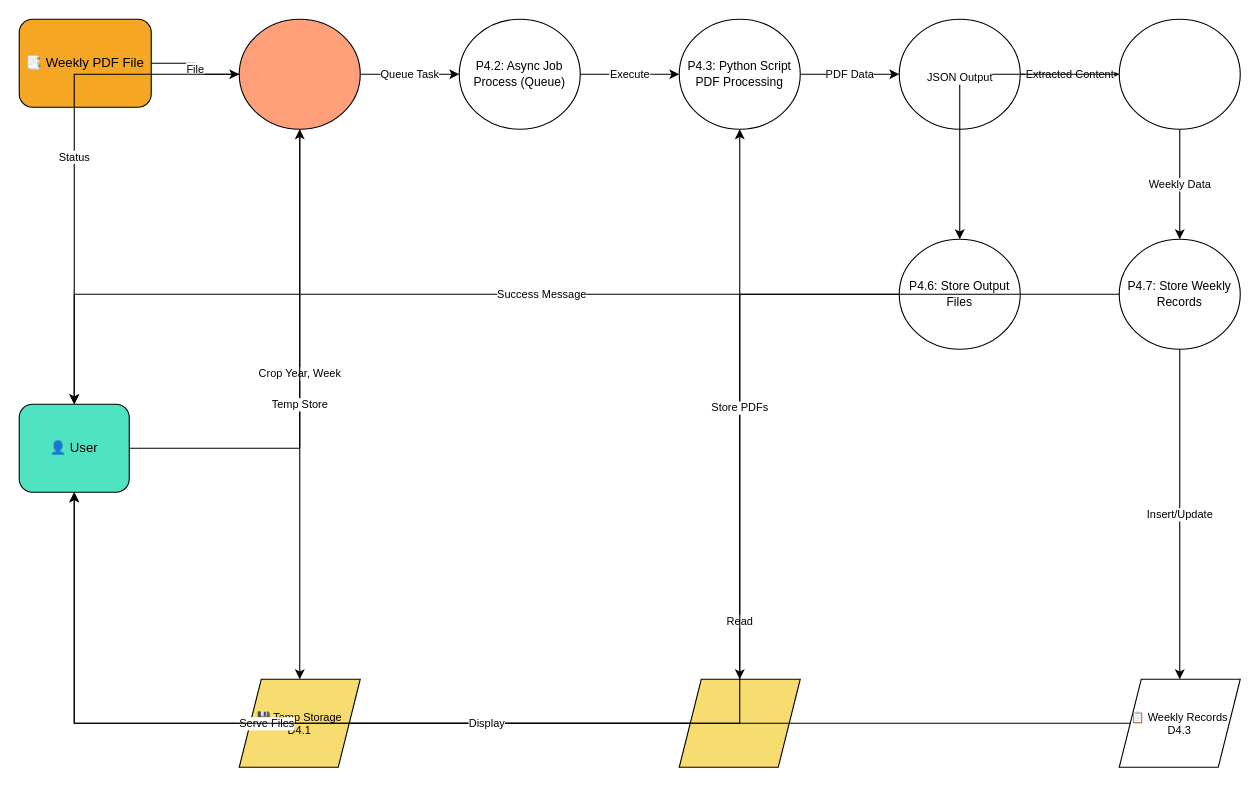
Some shapes in this 1260 by 787 pixel diagram are drawn without their labels. The shapes that lost their labels are listed below. From the top down, each one's centre as x and y in pixels, then its label:
At [299,73]: "P4.1: Upload PDF & Queue Job".
At [959,73]: "P4.4: Split & Extract Data from PDF".
At [1179,73]: "P4.5: Parse Extracted Data to JSON".
At [739,722]: "📁 Public Storage D4.2".
